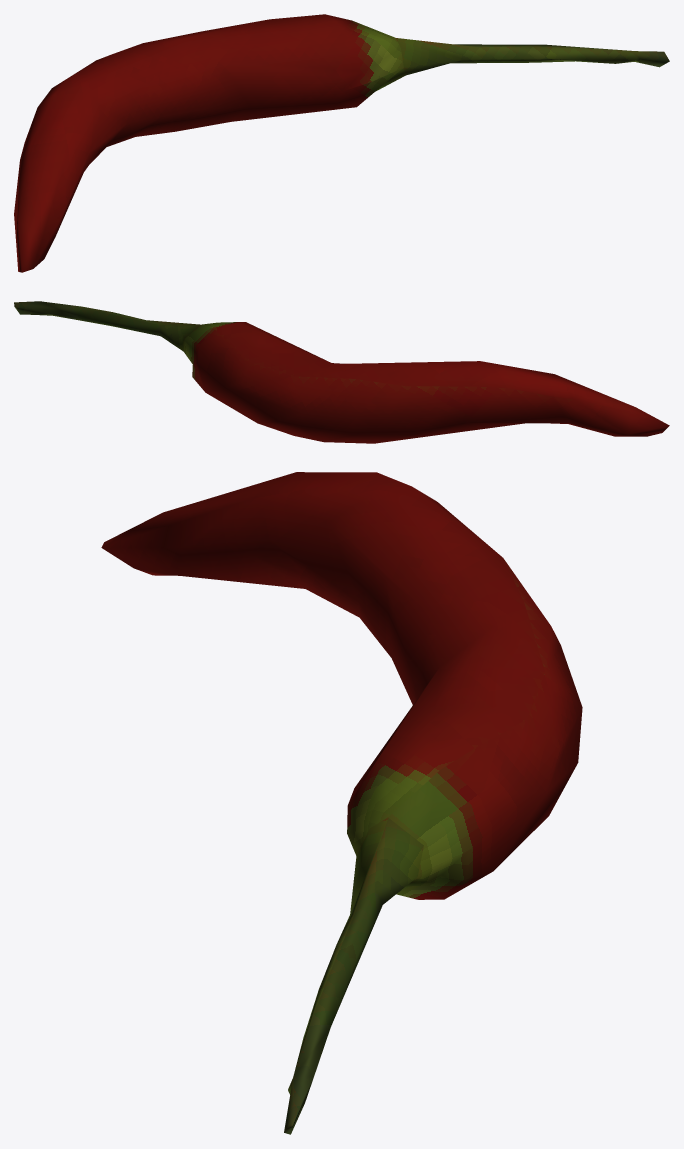
File: PepperFresh.obj
The picture shows the model from 3 angles, top to bottom: view 1: azimuth 30°, elevation 25°; view 2: azimuth 150°, elevation 25°; view 3: azimuth 270°, elevation 25°; orthographic projection. The views are drawn at different scales.
Visible parts, largest first — view 1: MDCNR1M99P01_LOD2(Clone)_Quality_4; view 2: MDCNR1M99P01_LOD2(Clone)_Quality_4; view 3: MDCNR1M99P01_LOD2(Clone)_Quality_4.
Part boxes in pixels (x1,y1,x2,y2): MDCNR1M99P01_LOD2(Clone)_Quality_4: (14,14,669,272); MDCNR1M99P01_LOD2(Clone)_Quality_4: (14,301,669,443); MDCNR1M99P01_LOD2(Clone)_Quality_4: (101,472,582,1134).
Bounding box in the file's own units: 2.48 × 0.3535 × 0.8446.
